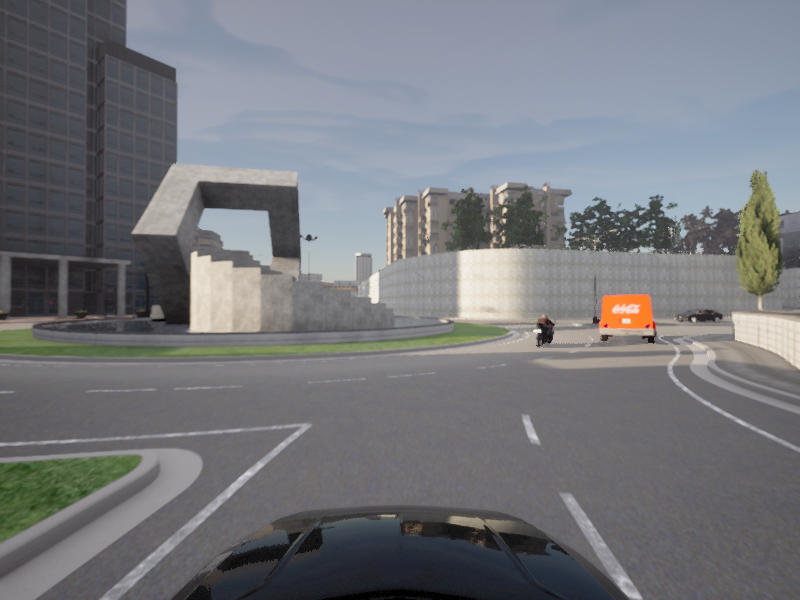vehicle: (0, 0, 799, 599), (596, 293, 658, 344), (527, 313, 560, 348)
